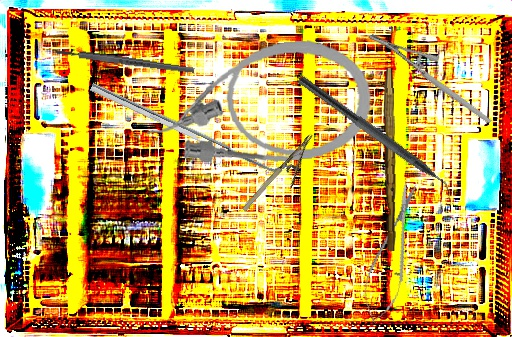Cannula: (140, 35, 376, 173)
Chopper: (288, 74, 465, 207)
Micro Scissor: (355, 177, 429, 328)
Needle Holder: (366, 5, 494, 153), (239, 132, 329, 224)
Scalpel Handle: (55, 47, 195, 75), (379, 67, 400, 252)
Spatula Surgical: (89, 74, 288, 180)
